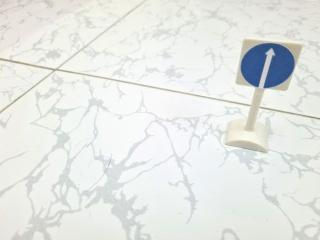straight: (238, 38, 299, 94)
